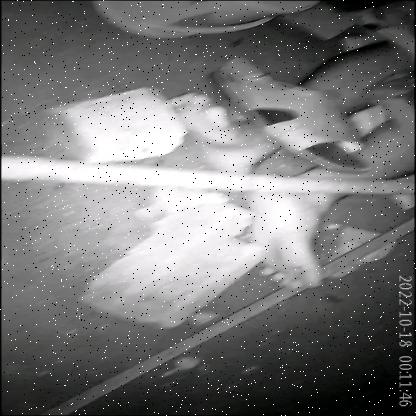leg: (233, 169, 350, 302), (155, 95, 271, 172)
